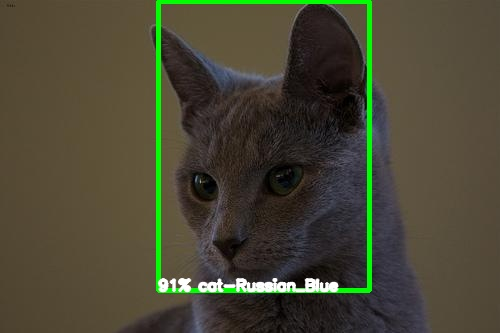cat-Russian_Blue: (150, 2, 372, 291)
